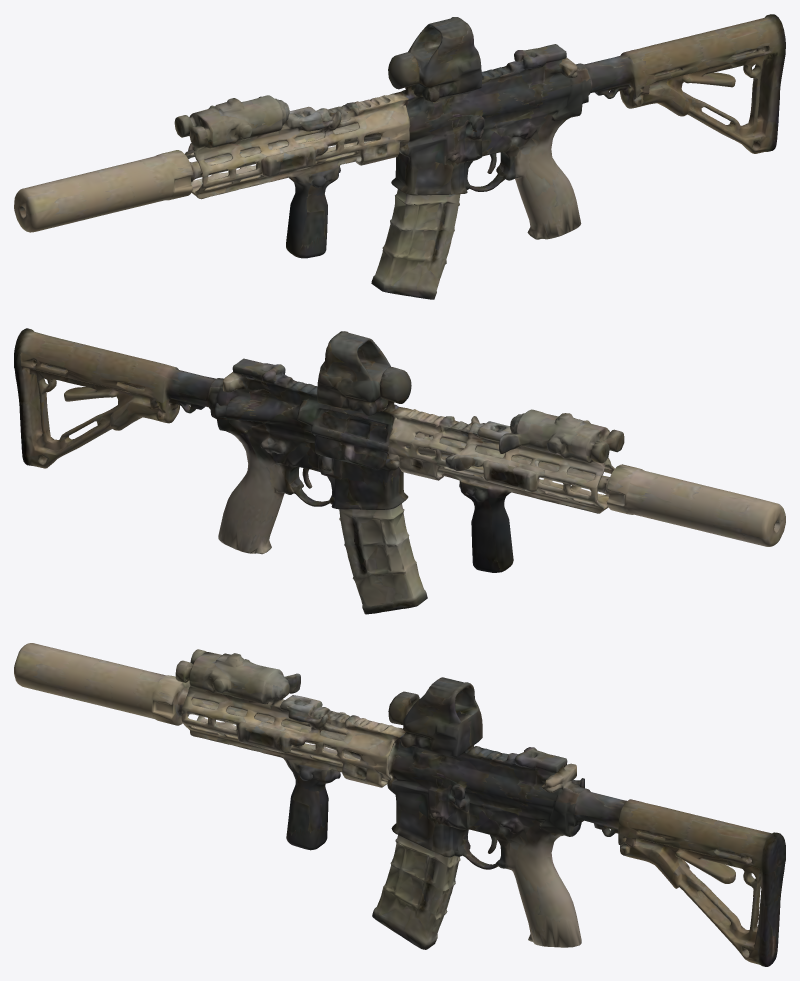
File: inf_m4.glb
The picture shows the model from 3 angles, top to bottom: view 1: azimuth 30°, elevation 25°; view 2: azimuth 150°, elevation 25°; view 3: azimuth 330°, elevation 25°; orthographic projection.
Bounding box in the file's own units: 1.9 × 0.6458 × 0.1662.
Materials: 1 (1 with a texture image).
